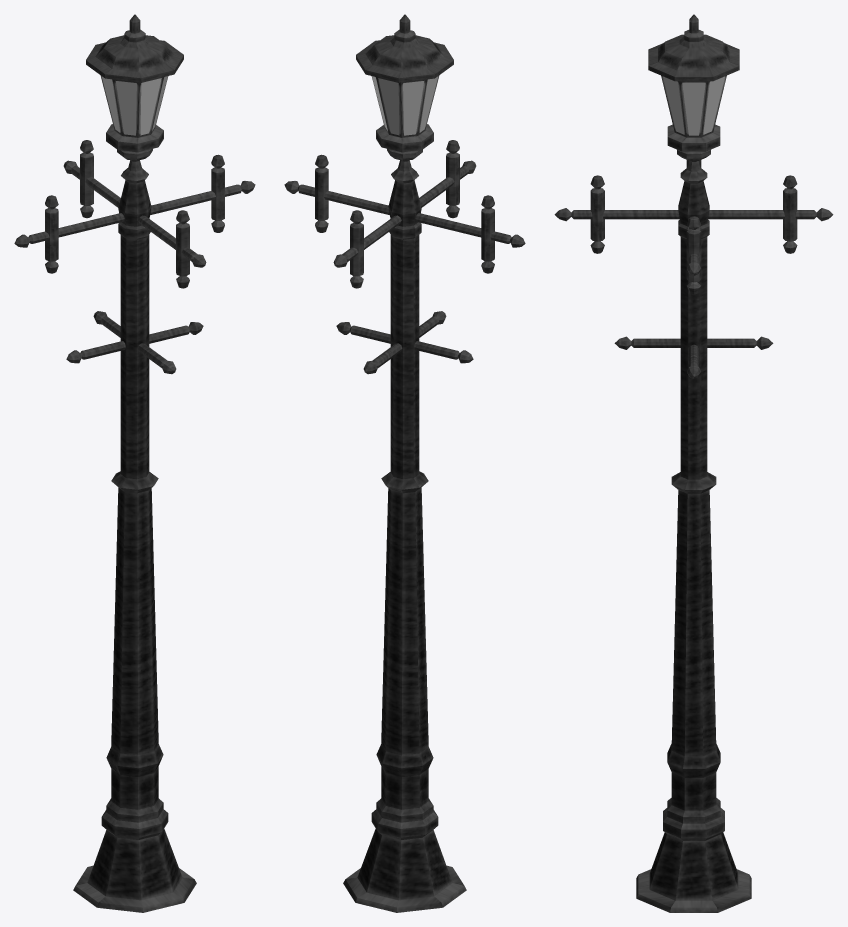
The model's file is lamppost.obj.
The picture shows the model from 3 angles, left to right: view 1: azimuth 30°, elevation 25°; view 2: azimuth 150°, elevation 25°; view 3: azimuth 270°, elevation 25°; orthographic projection.
Parts seen in each view (by area): view 1: Pole, LampsC, WingsEW, WingsNS; view 2: Pole, LampsC, WingsEW, WingsNS; view 3: Pole, LampsC, WingsNS, WingsEW.
Boxes of the visible parts, left/top/right/bottom form: Pole: left=73, top=160, right=196, bottom=912; LampsC: left=86, top=14, right=183, bottom=160; WingsEW: left=14, top=154, right=255, bottom=363; WingsNS: left=63, top=140, right=206, bottom=374; Pole: left=343, top=160, right=466, bottom=912; LampsC: left=356, top=14, right=453, bottom=160; WingsEW: left=284, top=154, right=525, bottom=363; WingsNS: left=333, top=140, right=476, bottom=374; Pole: left=636, top=161, right=751, bottom=912; LampsC: left=648, top=14, right=739, bottom=160; WingsNS: left=554, top=175, right=833, bottom=349; WingsEW: left=686, top=160, right=701, bottom=378.
Size of the model in its own units: 1.16 by 4.01 by 1.16.
